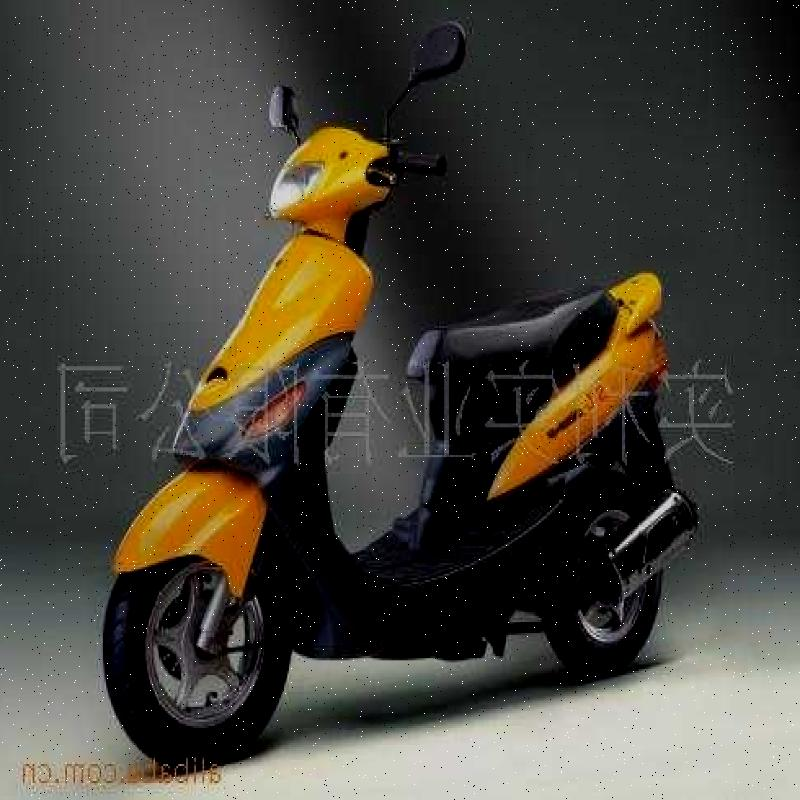bike: (117, 0, 680, 755)
